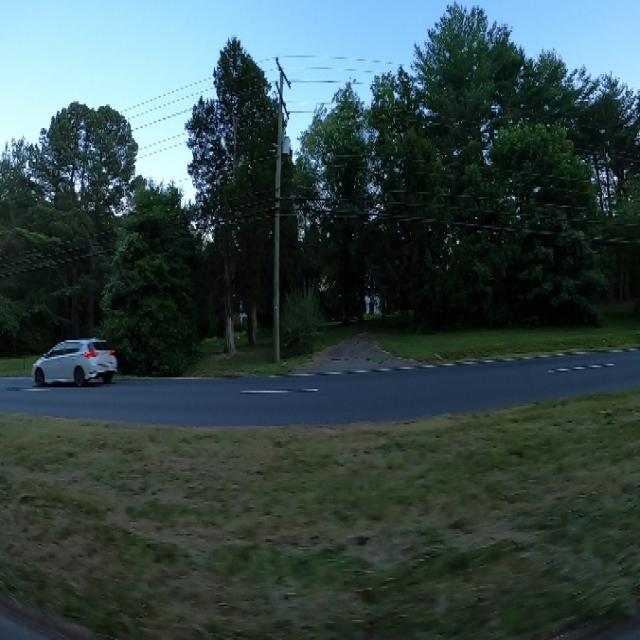car: (15, 313, 125, 401)
